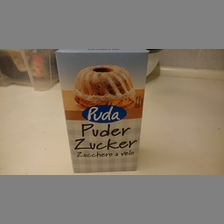sugar: (55, 49, 149, 174)
